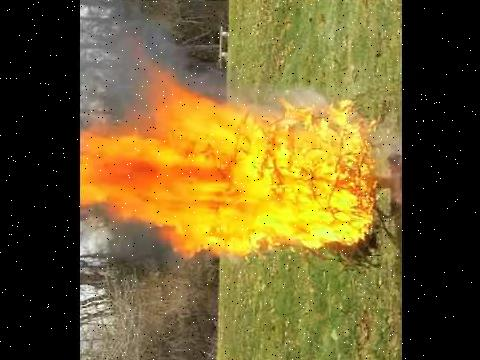fire: (80, 68, 391, 259)
